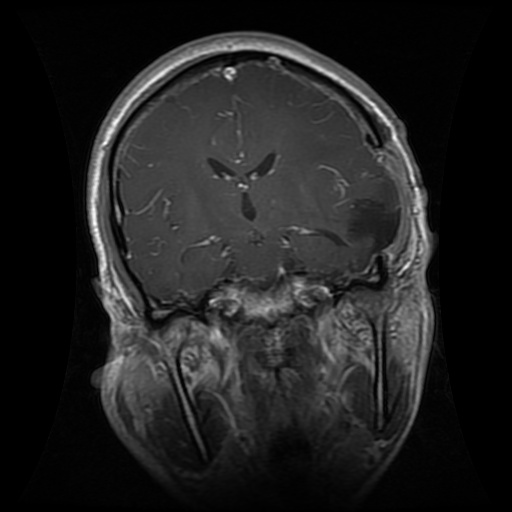glioma: (341, 191, 401, 253)
